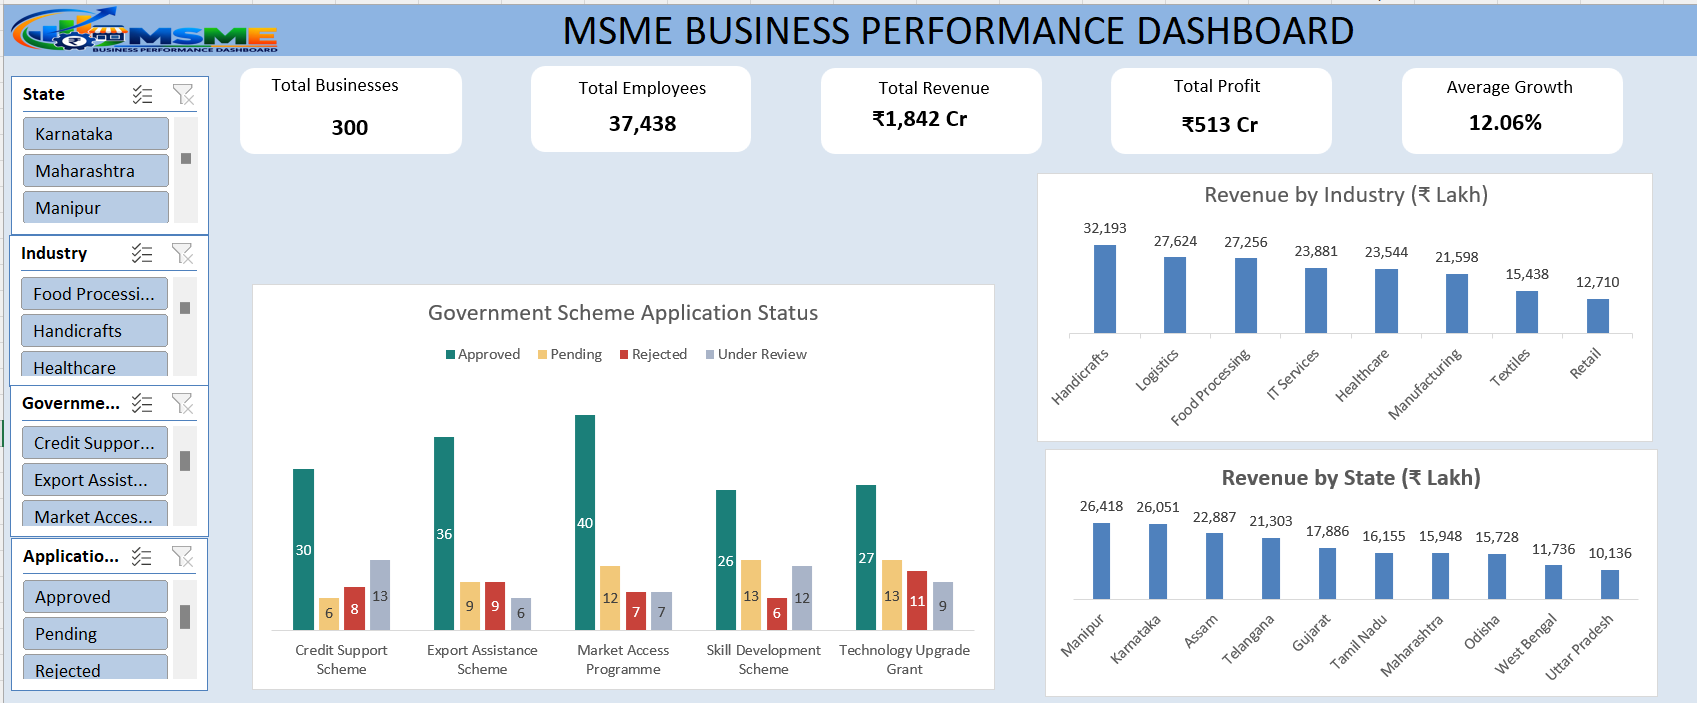

What the dashboard file says about the page in this screenshot:
{"tool":"powerbi","page":{"name":"Page 1","canvas":[1920,1080],"ordinal":0},"visuals":[{"type":"textbox","box":[0,0,1920,71.5],"z":0},{"type":"cardVisual","fields":{"Data":["msme_business_data.Total Businesses"]},"box":[11.7,80.2,200,96.3],"z":1000},{"type":"cardVisual","fields":{"Data":["msme_business_data.Total Employees"]},"box":[223.2,80.2,200,96],"z":2000},{"type":"cardVisual","fields":{"Data":["msme_business_data.Average Growth (%)"]},"box":[1704.1,80.2,200,96],"z":3000},{"type":"clusteredColumnChart","title":"Revenue by City (₹ Lakh)","fields":{"Category":["msme_business_data.City"],"Y":["Sum(msme_business_data.Annual_Revenue_Lakh_INR)"]},"box":[323.9,230.5,707.6,407.1],"z":4000},{"type":"clusteredColumnChart","title":"Revenue by Industry (₹ Lakh)","fields":{"Category":["msme_business_data.Industry"],"Y":["Sum(msme_business_data.Profit_Lakh_INR)"]},"box":[323.9,672.6,707.6,396.8],"z":5000},{"type":"columnChart","title":"Government Scheme Application Status","fields":{"Category":["msme_business_data.Government_Scheme"],"Series":["msme_business_data.Application_Status"],"Y":["CountNonNull(msme_business_data.Business_ID)"]},"box":[1047.5,675.5,856.4,393.9],"z":6000},{"type":"slicer","fields":{"Values":["msme_business_data.Industry"]},"box":[0,594.7,300,165],"z":7000},{"type":"slicer","fields":{"Values":["msme_business_data.State"]},"box":[0,240.6,300,165],"z":8000},{"type":"slicer","fields":{"Values":["msme_business_data.City"]},"box":[0,417.7,300,165],"z":9000},{"type":"slicer","fields":{"Values":["msme_business_data.Government_Scheme"]},"box":[0,771.8,300,165],"z":10000},{"type":"cardVisual","fields":{"Data":["msme_business_data.Approval Rate %"]},"box":[646.3,80.2,200,96],"z":11000},{"type":"cardVisual","fields":{"Data":["msme_business_data.Undecided Applications"]},"box":[1069.4,80.2,200,96],"z":12000},{"type":"cardVisual","fields":{"Data":["msme_business_data.At-Risk Businesses"]},"box":[1281,80.2,200,96],"z":13000},{"type":"cardVisual","fields":{"Data":["msme_business_data.Profit Margin %"]},"box":[434.8,80.2,200,96],"z":14000},{"type":"cardVisual","fields":{"Data":["msme_business_data.Total Profit (₹ Cr)"]},"box":[1492.5,80.2,200,96],"z":15000},{"type":"cardVisual","fields":{"Data":["msme_business_data.Total Revenue (₹ Cr)"]},"box":[857.9,80.2,200,96.3],"z":16000},{"type":"lineChart","title":"Monthly revenue by registration month (₹ Cr).","fields":{"Category":["msme_business_data.Month Label"],"Y":["msme_business_data.Total Revenue (₹ Cr)"]},"box":[1047.5,230.5,856.4,407.1],"z":17000},{"type":"image","box":[0,0,258.2,71.5],"z":17001}]}

Visuals, with their boxes on the page's 1920x1080 design canvas (x1, y1, x2, y2). These are canvas units, not pixel positions in the 1697x703 screenshot, which may show the page scaled, cropped or inside an application window:
textbox: 0, 0, 1920, 72
cardVisual - msme_business_data.Total Businesses: 12, 80, 212, 176
cardVisual - msme_business_data.Total Employees: 223, 80, 423, 176
cardVisual - msme_business_data.Average Growth (%): 1704, 80, 1904, 176
"Revenue by City (₹ Lakh)" clusteredColumnChart: 324, 230, 1032, 638
"Revenue by Industry (₹ Lakh)" clusteredColumnChart: 324, 673, 1032, 1069
"Government Scheme Application Status" columnChart: 1048, 676, 1904, 1069
slicer - msme_business_data.Industry: 0, 595, 300, 760
slicer - msme_business_data.State: 0, 241, 300, 406
slicer - msme_business_data.City: 0, 418, 300, 583
slicer - msme_business_data.Government_Scheme: 0, 772, 300, 937
cardVisual - msme_business_data.Approval Rate %: 646, 80, 846, 176
cardVisual - msme_business_data.Undecided Applications: 1069, 80, 1269, 176
cardVisual - msme_business_data.At-Risk Businesses: 1281, 80, 1481, 176
cardVisual - msme_business_data.Profit Margin %: 435, 80, 635, 176
cardVisual - msme_business_data.Total Profit (₹ Cr): 1492, 80, 1692, 176
cardVisual - msme_business_data.Total Revenue (₹ Cr): 858, 80, 1058, 176
"Monthly revenue by registration month (₹ Cr)." lineChart: 1048, 230, 1904, 638
image: 0, 0, 258, 72
